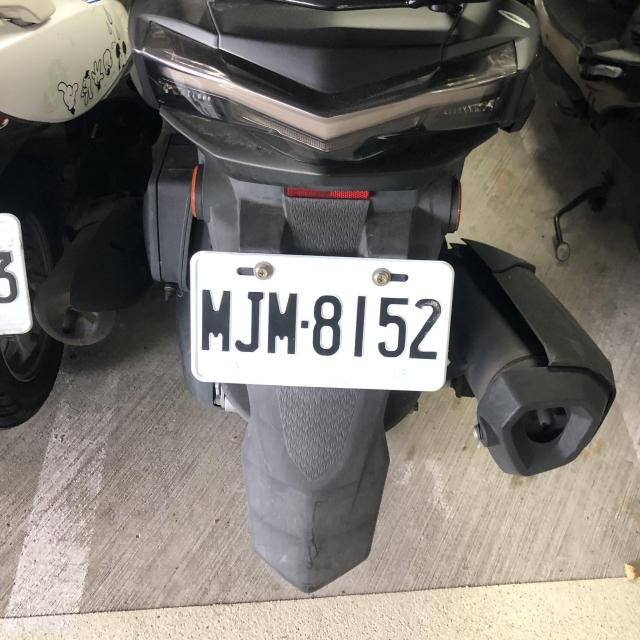W: (187, 252, 452, 390), (0, 200, 35, 355)
